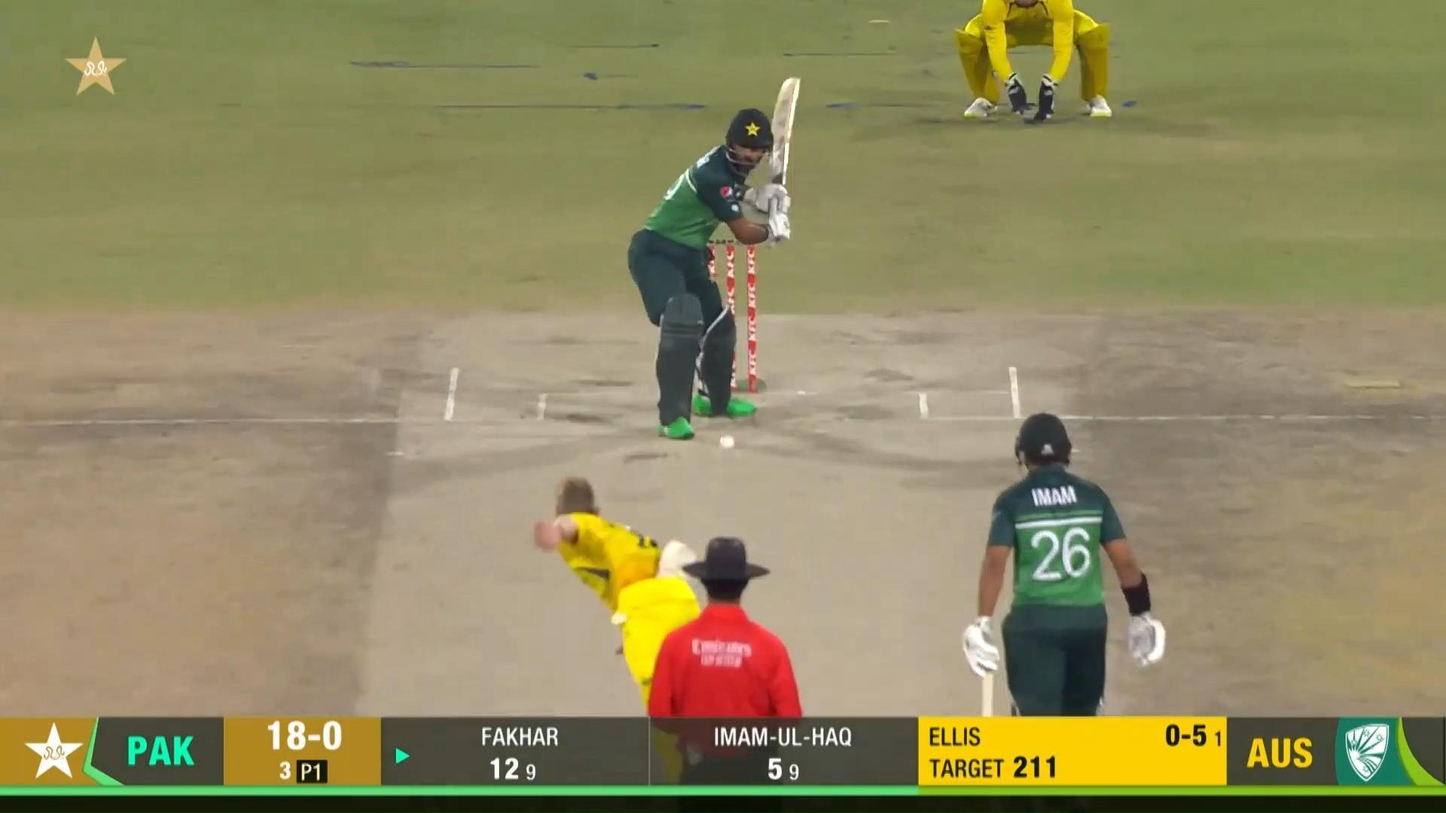BM 1: (627, 77, 801, 441)
BO: (530, 475, 700, 778)
